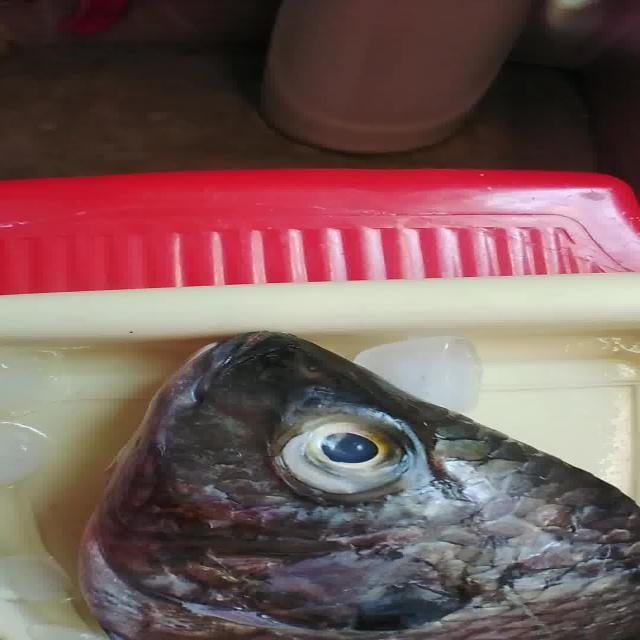Fresh: (265, 403, 445, 502)
